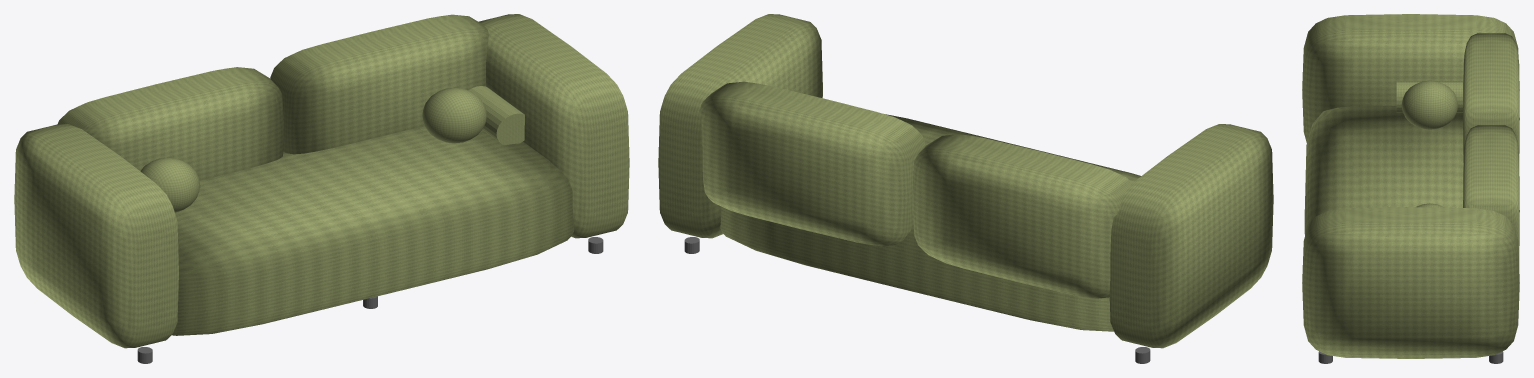
The picture shows the model from 3 angles, left to right: view 1: azimuth 30°, elevation 25°; view 2: azimuth 150°, elevation 25°; view 3: azimuth 270°, elevation 25°; orthographic projection. The views are drawn at different scales.
Parts seen in each view (by area): view 1: 1 seat_base, 2 left_armrest, 5 right_backrest, 3 right_armrest, 4 left_backrest, 7 right_sphere_pillow, 6 left_sphere_pillow, 9 right_bolster_pillow; view 2: 5 right_backrest, 2 left_armrest, 4 left_backrest, 1 seat_base, 3 right_armrest; view 3: 3 right_armrest, 1 seat_base, 2 left_armrest, 4 left_backrest, 5 right_backrest, 6 left_sphere_pillow, 8 left_bolster_pillow.
Boxes of the visible parts, x1,y1,x2,y2 form: 1 seat_base: (172,126,573,335); 2 left_armrest: (14,124,178,348); 5 right_backrest: (270,14,488,154); 3 right_armrest: (478,14,629,238); 4 left_backrest: (58,67,284,180); 7 right_sphere_pillow: (422,87,486,143); 6 left_sphere_pillow: (140,157,200,212); 9 right_bolster_pillow: (468,86,524,144); 5 right_backrest: (699,81,925,246); 2 left_armrest: (1109,124,1273,348); 4 left_backrest: (912,134,1131,298); 1 seat_base: (720,114,1140,331); 3 right_armrest: (658,14,822,238); 3 right_armrest: (1302,207,1519,358); 1 seat_base: (1304,106,1463,235); 2 left_armrest: (1302,14,1519,142); 4 left_backrest: (1463,33,1519,162); 5 right_backrest: (1463,125,1519,264); 6 left_sphere_pillow: (1401,80,1458,129); 8 left_bolster_pillow: (1396,81,1462,112).
Bounding box in the file's own units: 3.1 × 1 × 1.3.
Materials: 2 (1 with a texture image).
